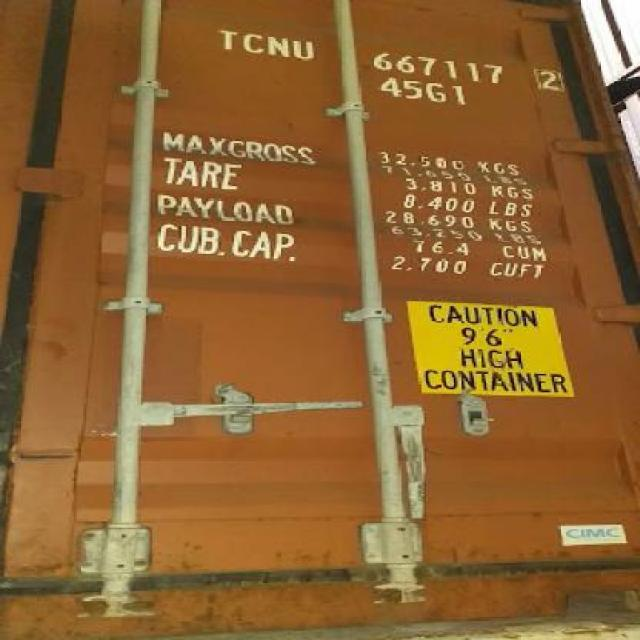ISO: (381, 76, 471, 112)
container_number: (211, 24, 574, 94)
